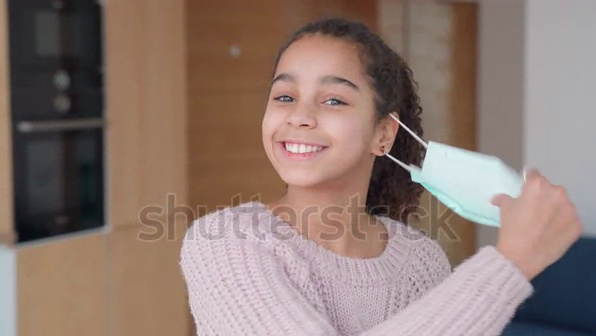No Mask: (258, 113, 369, 191)
